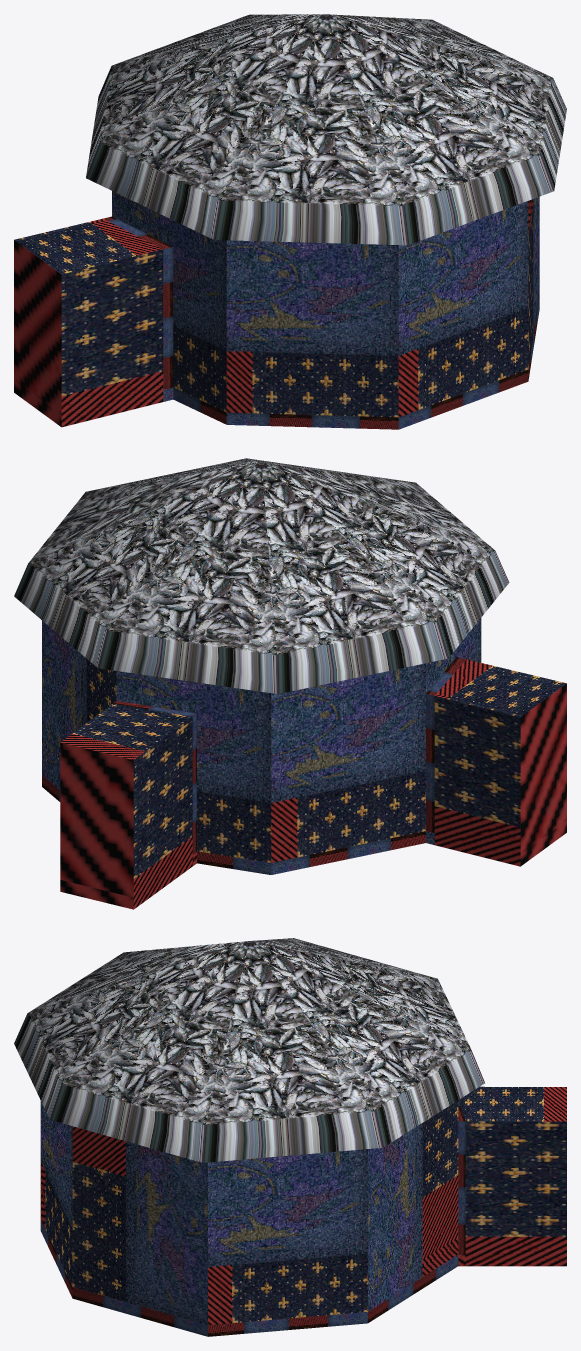
The model's file is RoomCircle.fbx.
3 renders of one model, top to bottom at view 1: azimuth 30°, elevation 25°; view 2: azimuth 150°, elevation 25°; view 3: azimuth 270°, elevation 25°, orthographic. The views are drawn at different scales.
Parts seen in each view (by area): view 1: RoomCircle; view 2: RoomCircle; view 3: RoomCircle.
Boxes of the visible parts, bbox=[...] form: RoomCircle: bbox=[14, 14, 566, 429]; RoomCircle: bbox=[14, 458, 566, 909]; RoomCircle: bbox=[14, 938, 566, 1336].
Size of the model in its own units: 8.86 by 5.46 by 8.89.
